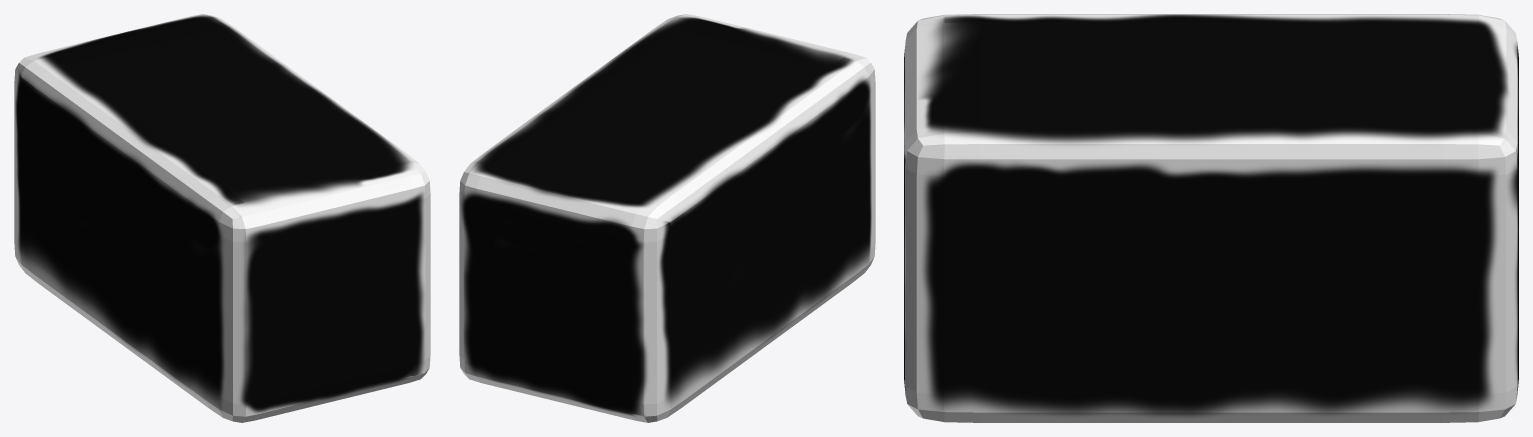
File: castlebrick.fbx_Scene.fbx
3 renders of one model, left to right at view 1: azimuth 30°, elevation 25°; view 2: azimuth 150°, elevation 25°; view 3: azimuth 270°, elevation 25°, orthographic. The views are drawn at different scales.
Visible parts, largest first — view 1: Cube, Cube_cell.004, Cube_cell.001, Cube_cell.005, Cube_cell, Cube_cell.002, Cube_cell.006, Cube_cell.003; view 2: Cube, Cube_cell.001, Cube_cell.004, Cube_cell.005, Cube_cell, Cube_cell.003, Cube_cell.006, Cube_cell.002; view 3: Cube, Cube_cell.002, Cube_cell, Cube_cell.006, Cube_cell.004, Cube_cell.001.
Part boxes in pixels (x1=…): Cube: x1=14, y1=18, x2=430, y2=418; Cube_cell.004: x1=114, y1=139, x2=430, y2=422; Cube_cell.001: x1=42, y1=18, x2=225, y2=219; Cube_cell.005: x1=14, y1=192, x2=124, y2=325; Cube_cell: x1=199, y1=62, x2=366, y2=128; Cube_cell.002: x1=184, y1=14, x2=284, y2=72; Cube_cell.006: x1=102, y1=290, x2=164, y2=372; Cube_cell.003: x1=18, y1=51, x2=106, y2=222; Cube: x1=459, y1=14, x2=875, y2=422; Cube_cell.001: x1=488, y1=117, x2=764, y2=230; Cube_cell.004: x1=672, y1=34, x2=875, y2=311; Cube_cell.005: x1=546, y1=236, x2=776, y2=421; Cube_cell: x1=533, y1=49, x2=687, y2=128; Cube_cell.003: x1=552, y1=197, x2=762, y2=347; Cube_cell.006: x1=461, y1=264, x2=812, y2=401; Cube_cell.002: x1=464, y1=116, x2=587, y2=184; Cube: x1=904, y1=14, x2=1518, y2=422; Cube_cell.002: x1=1286, y1=100, x2=1516, y2=317; Cube_cell: x1=1041, y1=58, x2=1313, y2=388; Cube_cell.006: x1=1015, y1=307, x2=1517, y2=422; Cube_cell.004: x1=904, y1=32, x2=1047, y2=422; Cube_cell.001: x1=1213, y1=14, x2=1509, y2=124.
Size of what is drawn, in the model's own units: 200 by 200 by 383.
